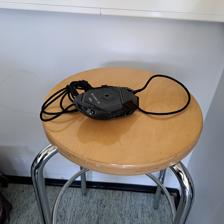mouse: (72, 84, 139, 121)
